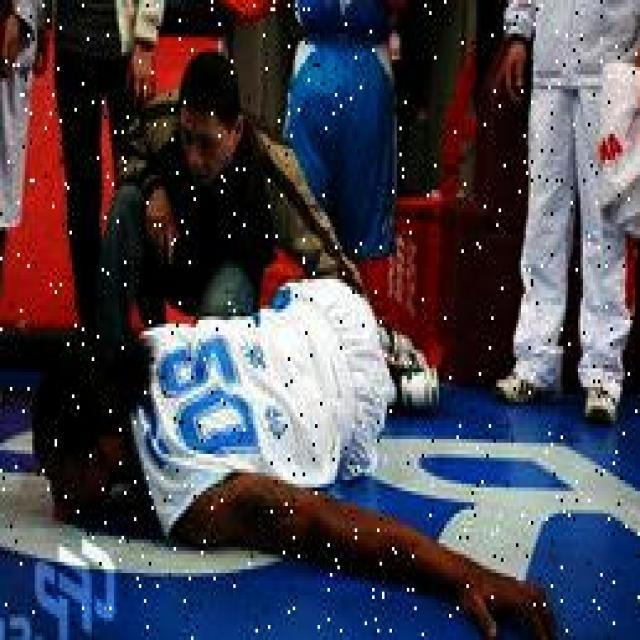fall: (38, 298, 422, 547)
